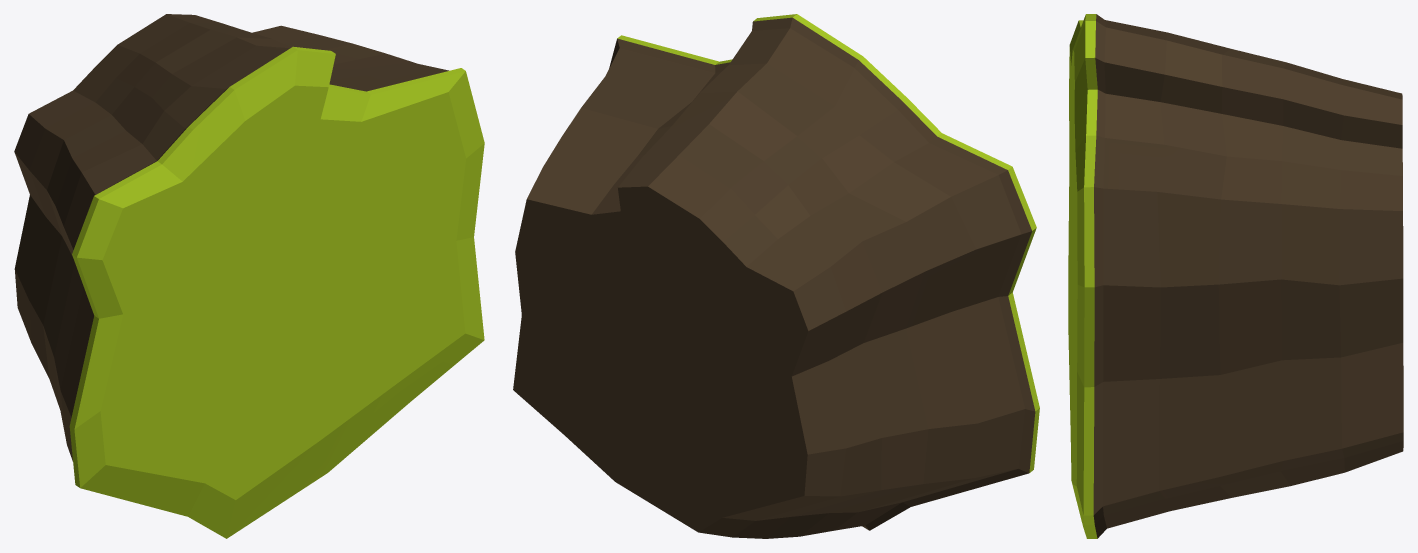
Rendered from Cliff3.fbx.
3 renders of one model, left to right at view 1: azimuth 30°, elevation 25°; view 2: azimuth 150°, elevation 25°; view 3: azimuth 270°, elevation 25°, orthographic. The views are drawn at different scales.
Parts seen in each view (by area): view 1: Cliff_Small_2; view 2: Cliff_Small_2; view 3: Cliff_Small_2.
Part boxes in pixels (box(x1,y1,x2,y2)): Cliff_Small_2: box(14, 14, 484, 538); Cliff_Small_2: box(513, 14, 1039, 538); Cliff_Small_2: box(1068, 14, 1403, 538).
Bounding box in the file's own units: 6.15 × 6.68 × 3.71.
